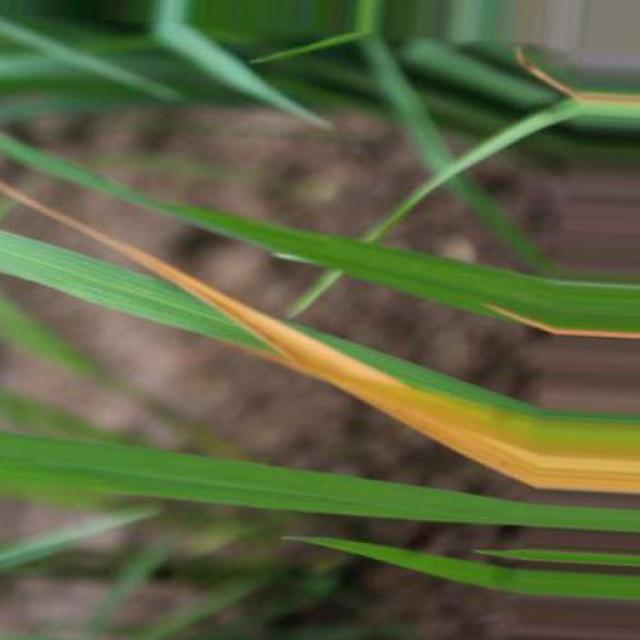Rice Tungro: (0, 183, 639, 492), (517, 45, 585, 101), (628, 96, 639, 103)
